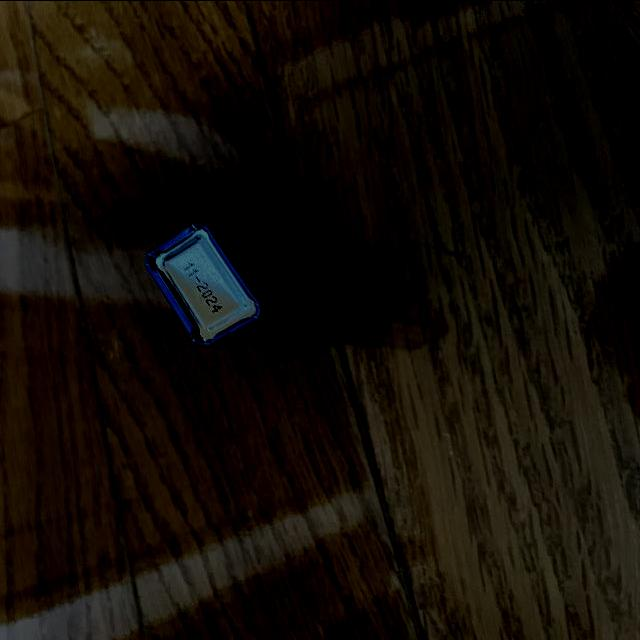9V: (141, 219, 387, 348)
